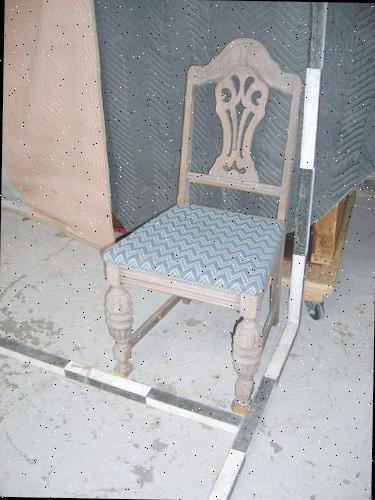Silla: (100, 39, 305, 435)
